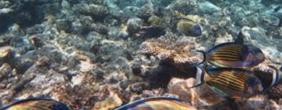Acanthuridae -Surgeonfishes-: (184, 64, 269, 101), (57, 96, 208, 110), (191, 39, 252, 65), (0, 93, 72, 110), (268, 57, 282, 97)
